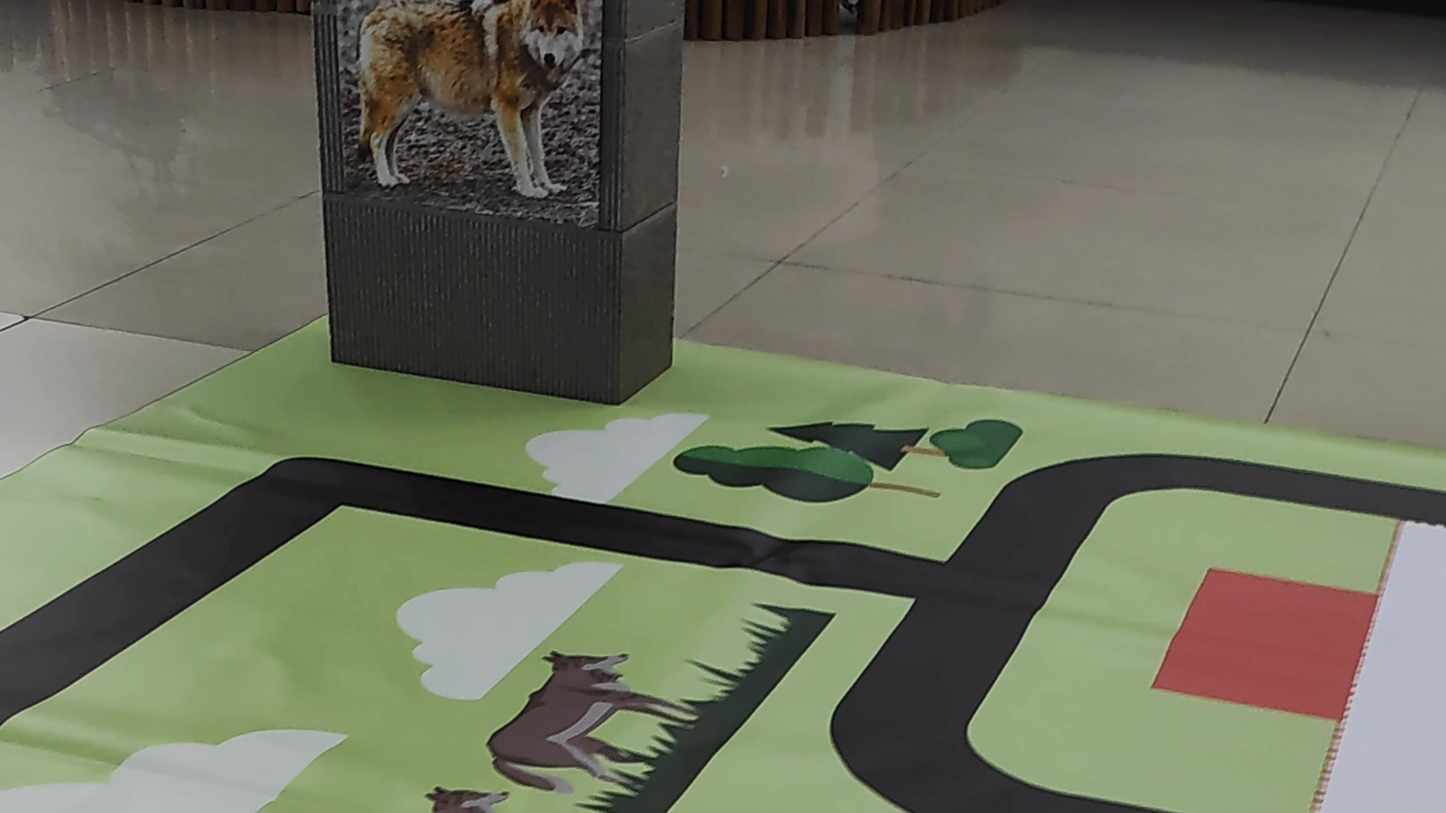wolf: (345, 5, 601, 195)
